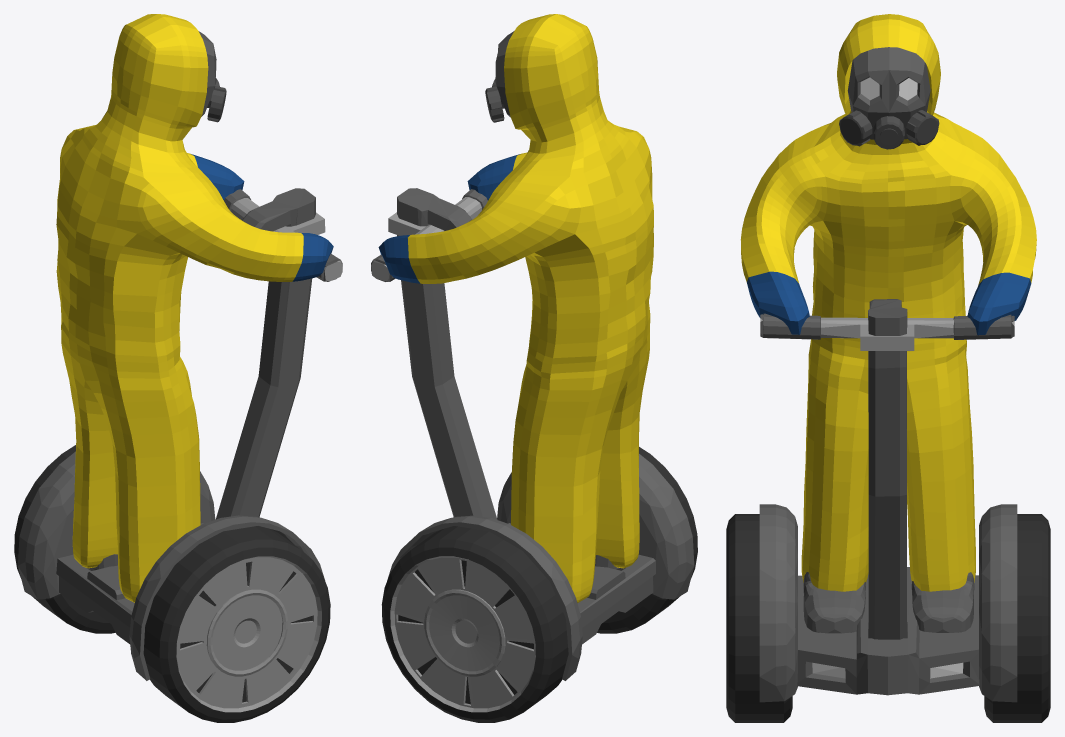
The model's file is _nemy4.fbx.
3 renders of one model, left to right at view 1: azimuth 30°, elevation 25°; view 2: azimuth 150°, elevation 25°; view 3: azimuth 270°, elevation 25°, orthographic. The views are drawn at different scales.
Parts seen in each view (by area): view 1: Cube.001, Cylinder.001; view 2: Cube.001, Cylinder.001; view 3: Cube.001, Cylinder.001.
Boxes of the visible parts, x1,y1,x2,y2 form: Cube.001: [18, 14, 342, 680]; Cylinder.001: [14, 445, 330, 722]; Cube.001: [371, 14, 694, 680]; Cylinder.001: [381, 447, 697, 722]; Cube.001: [740, 14, 1036, 702]; Cylinder.001: [726, 514, 1050, 722].
Bounding box in the file's own units: 332 × 874 × 373.
Materials: 1 (1 with a texture image).
